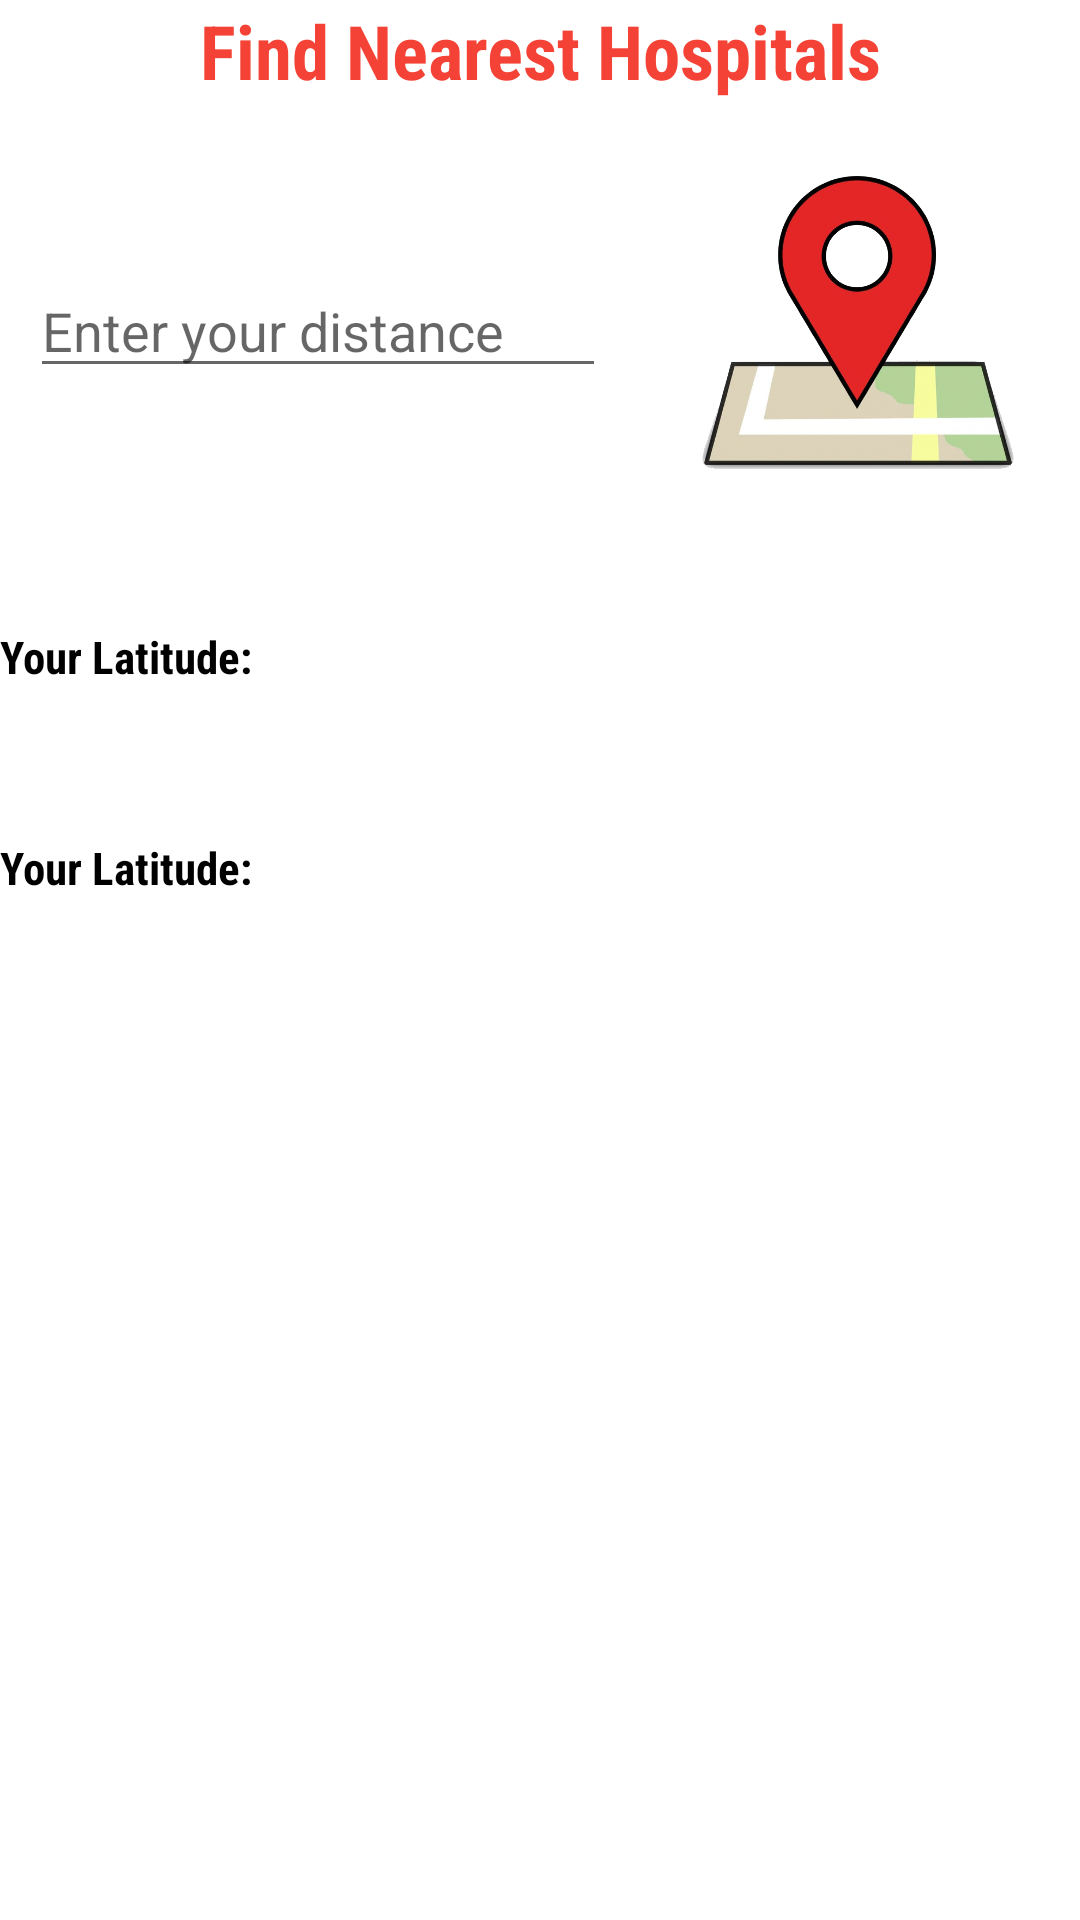

Icon bounding boxes for this 1080w x 1920h phone screenshot, format (x1, y1, x2, y2):
searchlacotscirlce: (703, 176, 1013, 469)
